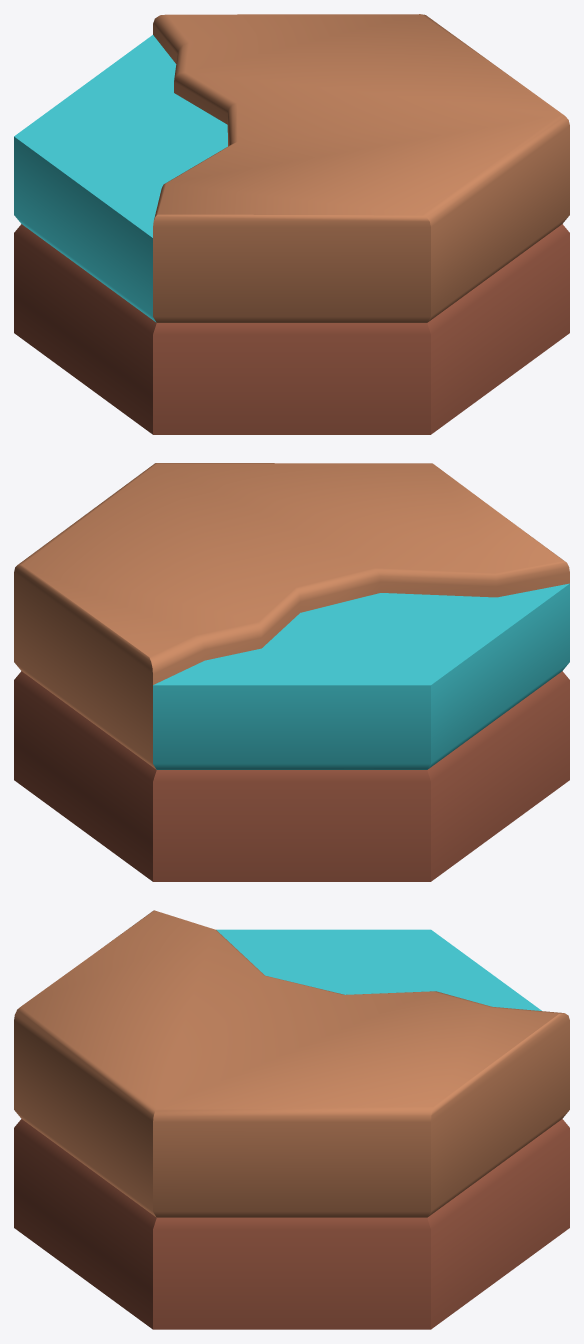
The model's file is hex_rock_waterD_detail.glb.
The picture shows the model from 3 angles, top to bottom: view 1: azimuth 30°, elevation 25°; view 2: azimuth 150°, elevation 25°; view 3: azimuth 270°, elevation 25°; orthographic projection.
Parts seen in each view (by area): view 1: hex_rock_waterD_detail; view 2: hex_rock_waterD_detail; view 3: hex_rock_waterD_detail.
Boxes of the visible parts, x1,y1,x2,y2 form: hex_rock_waterD_detail: (14, 14, 569, 434); hex_rock_waterD_detail: (14, 463, 569, 881); hex_rock_waterD_detail: (14, 910, 569, 1329).
Bounding box in the file's own units: 3.82 × 1.91 × 4.41.
